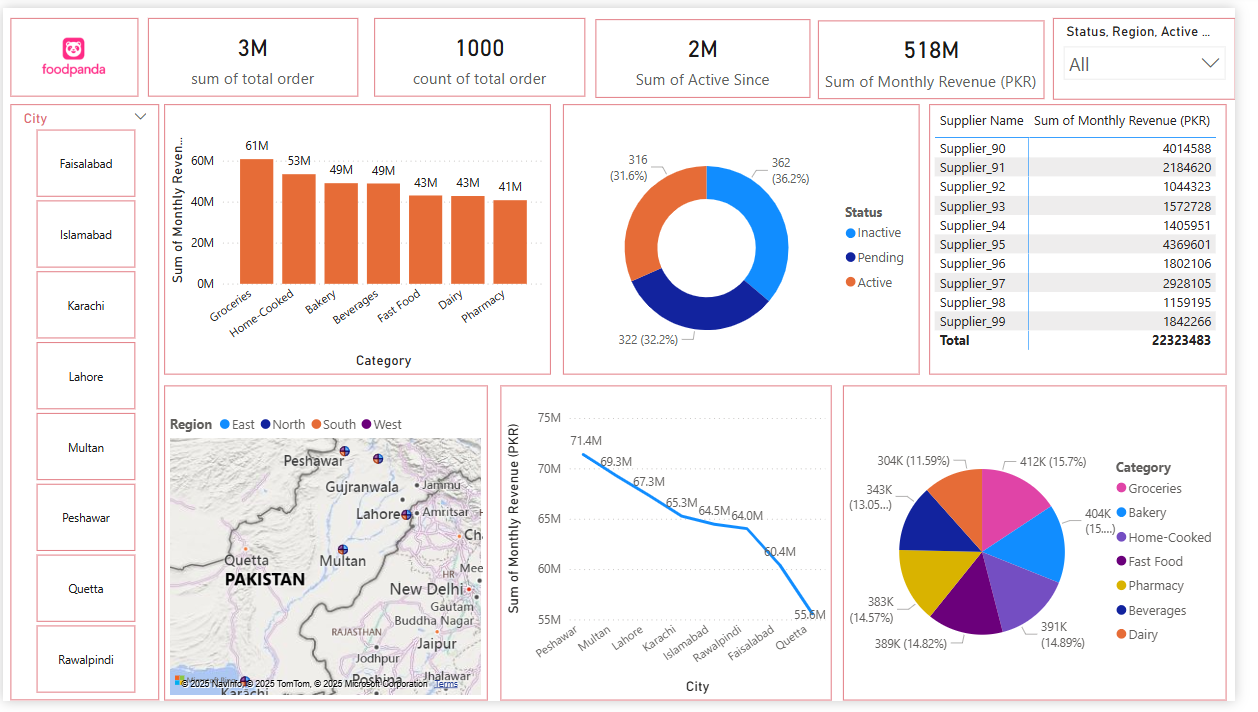

The page's visual inventory and layout, read from the dashboard file:
{"tool":"powerbi","page":{"name":"Page 1","canvas":[1280,720],"ordinal":0},"visuals":[{"type":"clusteredColumnChart","fields":{"Category":["Sheet1.Category"],"Y":["Sum(Sheet1.Monthly Revenue (PKR))"]},"box":[167.5,100,401.3,280.5],"z":0},{"type":"map","fields":{"Category":["Sheet1.City"],"Series":["Sheet1.Region"]},"box":[167.5,392.2,336.4,327.3],"z":1000},{"type":"donutChart","fields":{"Category":["Sheet1.Status"],"Y":["CountNonNull(Sheet1.Supplier ID)"]},"box":[581.8,100,370.1,280.5],"z":2000},{"type":"slicer","fields":{"Values":["Sheet1.Status","Sheet1.Region","Sheet1.Active Since"]},"box":[1090.9,10.4,189.6,84.4],"z":3000},{"type":"pivotTable","fields":{"Values":["Sum(Sheet1.Monthly Revenue (PKR))"],"Rows":["Sheet1.Supplier Name"]},"box":[962.3,100,309.1,280.5],"z":4000},{"type":"lineChart","fields":{"Category":["Sheet1.City"],"Y":["Sum(Sheet1.Monthly Revenue (PKR))"]},"box":[516.9,392.2,344.2,327.3],"z":5000},{"type":"pieChart","fields":{"Category":["Sheet1.Category"],"Y":["Sum(Sheet1.Total Orders)"]},"box":[872.7,392.2,398.7,327.3],"z":6000},{"type":"card","fields":{"Values":["Sheet1.sum of total order"]},"box":[150.6,10.4,218.2,81.8],"z":7000},{"type":"card","fields":{"Values":["Sheet1.count of total order"]},"box":[385.7,10.4,219.5,81.8],"z":8000},{"type":"card","fields":{"Values":["Sum(Sheet1.Active Since)"]},"box":[615.6,11.7,223.4,81.8],"z":9000},{"type":"slicer","fields":{"Values":["Sheet1.City"]},"box":[7.8,100,154.5,619.5],"z":10000},{"type":"card","fields":{"Values":["Sum(Sheet1.Monthly Revenue (PKR))"]},"box":[846.8,13,235.1,81.8],"z":11000},{"type":"image","box":[7.8,10.4,132.5,81.8],"z":12000}]}

Visuals, with their boxes in screenshot pixels (x1, y1, x2, y2), scaled from the page's 1280x720 canvas onto the 1258x712 screenshot:
clusteredColumnChart - Sheet1.Category x Sum(Sheet1.Monthly Revenue (PKR)): crop(165, 99, 559, 376)
map - Sheet1.City x Sheet1.Region: crop(165, 388, 495, 711)
donutChart - Sheet1.Status x CountNonNull(Sheet1.Supplier ID): crop(572, 99, 936, 376)
slicer - Sheet1.Status x Sheet1.Region: crop(1072, 10, 1257, 94)
pivotTable - Sum(Sheet1.Monthly Revenue (PKR)) x Sheet1.Supplier Name: crop(946, 99, 1250, 376)
lineChart - Sheet1.City x Sum(Sheet1.Monthly Revenue (PKR)): crop(508, 388, 846, 711)
pieChart - Sheet1.Category x Sum(Sheet1.Total Orders): crop(858, 388, 1250, 711)
card - Sheet1.sum of total order: crop(148, 10, 362, 91)
card - Sheet1.count of total order: crop(379, 10, 595, 91)
card - Sum(Sheet1.Active Since): crop(605, 12, 825, 92)
slicer - Sheet1.City: crop(8, 99, 160, 711)
card - Sum(Sheet1.Monthly Revenue (PKR)): crop(832, 13, 1063, 94)
image: crop(8, 10, 138, 91)
